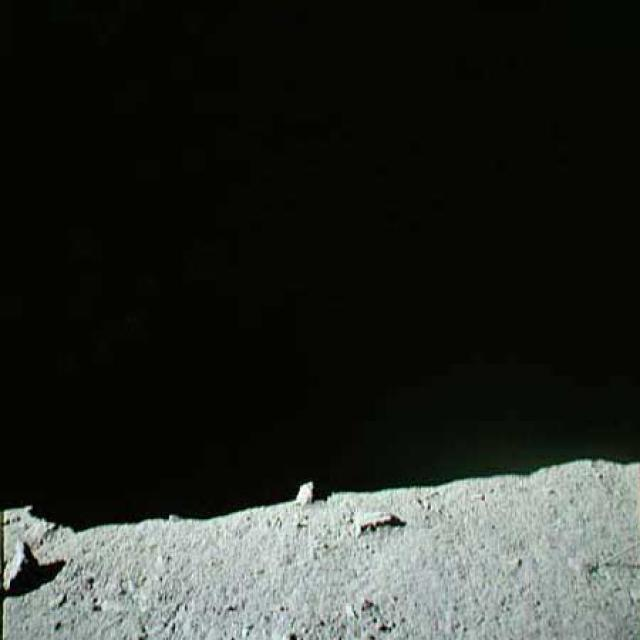rock: (0, 461, 639, 638), (0, 535, 41, 598)
